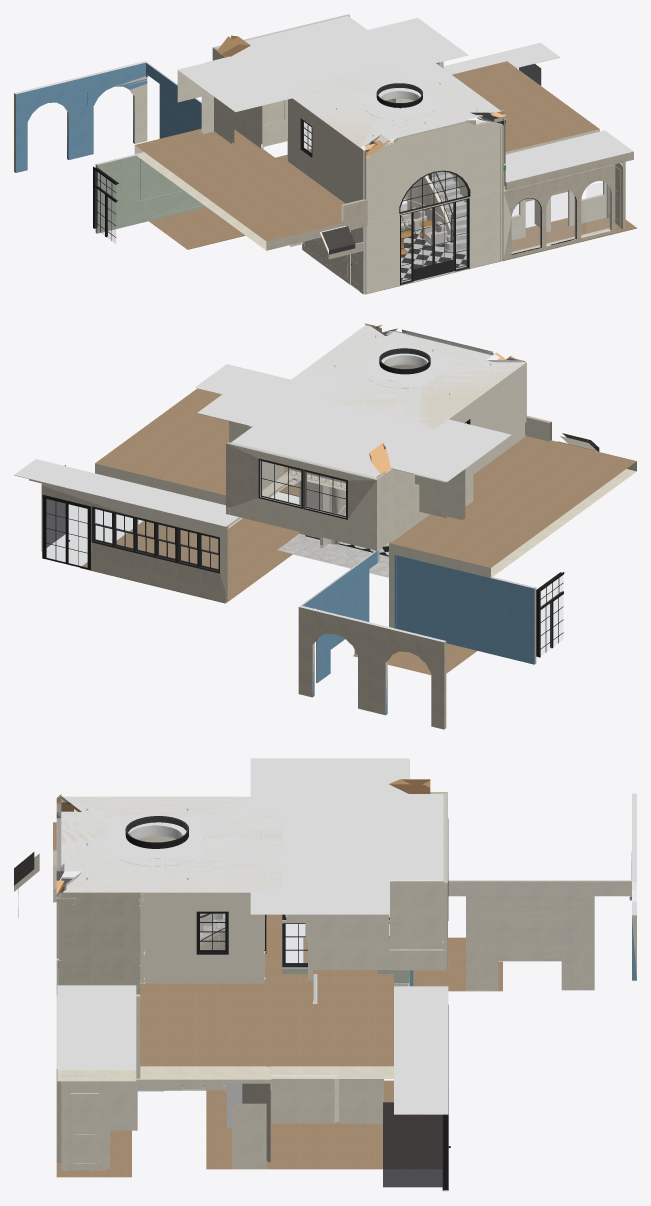
File: entry-e21c382106cd.glb
3 renders of one model, top to bottom at view 1: azimuth 30°, elevation 25°; view 2: azimuth 150°, elevation 25°; view 3: azimuth 270°, elevation 25°, orthographic. The views are drawn at different scales.
Parts seen in each view (by area): view 1: entry-look-2575515a05775d9e, entry-look-9d91b47435c6fb33, entry-9d91b47435c6fb33, entry-4edf3a9420c06709, entry-look-969b861f9850351e, entry-698abdfdc6fb970d, entry-look-b19b106fc304963c, entry-746250f96522f643, entry-look-dbd60ee5c3733ed6, entry-9ca48b730e5de4b2, entry-look-c9e78b9ec1bb39cd, entry-785988ccf932ddd5 (+30 smaller); view 2: entry-look-2575515a05775d9e, entry-look-9d91b47435c6fb33, entry-look-b19b106fc304963c, entry-9d91b47435c6fb33, entry-look-969b861f9850351e, entry-look-245f595ae2832e16, entry-look-3b0077416469e01b, entry-look-bfb9fa537cd11d1d, entry-e8793759323e04f0, entry-look-9a0e9ee9b2a451d7, entry-746250f96522f643, entry-look-3e6709f91b43c3bf (+16 smaller); view 3: entry-look-2575515a05775d9e, entry-look-9d91b47435c6fb33, entry-9d91b47435c6fb33, entry-look-3e6709f91b43c3bf, entry-look-3b0077416469e01b, entry-c51ecd664a3b22a3, entry-look-dbd60ee5c3733ed6, entry-look-9a0e9ee9b2a451d7, entry-e8793759323e04f0, entry-62353aa10fc57f23, entry-look-cbd4bf73d9724a66, entry-look-55ff1dfd7b659ec1 (+23 smaller).
Part boxes in pixels (bbox=[...]): entry-look-2575515a05775d9e: bbox=[134, 61, 599, 250]; entry-look-9d91b47435c6fb33: bbox=[178, 16, 468, 112]; entry-9d91b47435c6fb33: bbox=[281, 54, 500, 149]; entry-4edf3a9420c06709: bbox=[365, 120, 503, 221]; entry-look-969b861f9850351e: bbox=[14, 61, 147, 172]; entry-698abdfdc6fb970d: bbox=[400, 198, 469, 285]; entry-look-b19b106fc304963c: bbox=[95, 152, 202, 233]; entry-746250f96522f643: bbox=[287, 98, 361, 203]; entry-look-dbd60ee5c3733ed6: bbox=[505, 130, 633, 190]; entry-9ca48b730e5de4b2: bbox=[365, 189, 503, 293]; entry-look-c9e78b9ec1bb39cd: bbox=[503, 164, 615, 260]; entry-785988ccf932ddd5: bbox=[366, 118, 503, 220]; entry-look-2575515a05775d9e: bbox=[95, 388, 636, 578]; entry-look-9d91b47435c6fb33: bbox=[197, 371, 510, 481]; entry-look-b19b106fc304963c: bbox=[397, 555, 536, 664]; entry-9d91b47435c6fb33: bbox=[277, 325, 525, 427]; entry-look-969b861f9850351e: bbox=[298, 605, 446, 729]; entry-look-245f595ae2832e16: bbox=[226, 442, 377, 551]; entry-look-3b0077416469e01b: bbox=[80, 518, 476, 674]; entry-look-bfb9fa537cd11d1d: bbox=[42, 482, 227, 602]; entry-e8793759323e04f0: bbox=[307, 326, 525, 428]; entry-look-9a0e9ee9b2a451d7: bbox=[14, 459, 238, 526]; entry-746250f96522f643: bbox=[449, 363, 524, 474]; entry-look-3e6709f91b43c3bf: bbox=[302, 551, 377, 682]; entry-look-2575515a05775d9e: bbox=[53, 822, 393, 1078]; entry-look-9d91b47435c6fb33: bbox=[250, 758, 442, 914]; entry-9d91b47435c6fb33: bbox=[61, 796, 282, 892]; entry-look-3e6709f91b43c3bf: bbox=[448, 880, 631, 989]; entry-look-3b0077416469e01b: bbox=[206, 937, 502, 1169]; entry-c51ecd664a3b22a3: bbox=[145, 892, 264, 983]; entry-look-dbd60ee5c3733ed6: bbox=[57, 985, 136, 1081]; entry-look-9a0e9ee9b2a451d7: bbox=[394, 986, 448, 1114]; entry-e8793759323e04f0: bbox=[58, 794, 282, 892]; entry-62353aa10fc57f23: bbox=[61, 892, 140, 994]; entry-look-cbd4bf73d9724a66: bbox=[383, 1102, 443, 1187]; entry-look-55ff1dfd7b659ec1: bbox=[448, 880, 631, 990].
Size of the model in its own units: 21.06 by 7.01 by 18.
58 materials, 11 textured.
